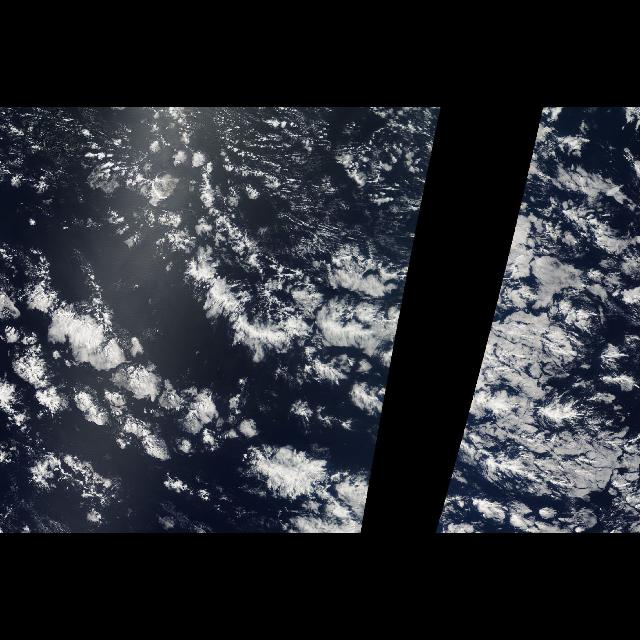Flower: (8, 132, 438, 530), (434, 132, 622, 530)
